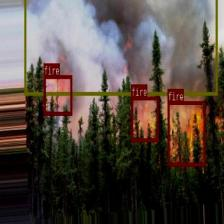fire: (167, 101, 205, 166), (131, 96, 158, 142), (43, 75, 72, 115)
smoke: (24, 0, 217, 94)
